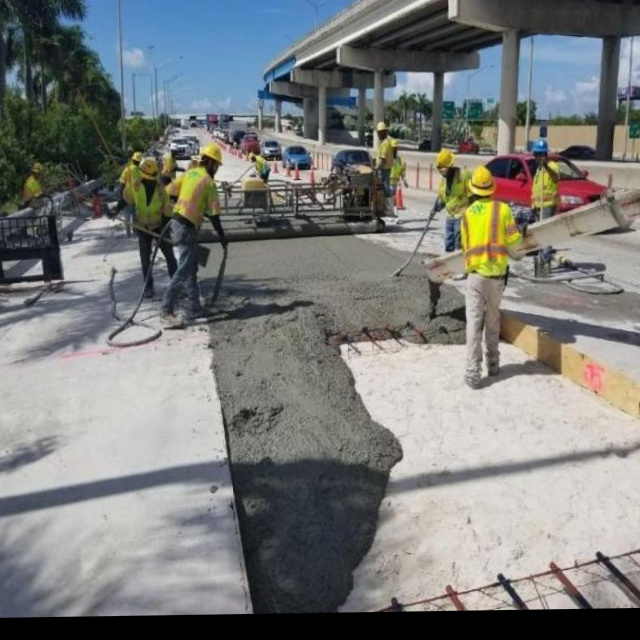Con_Casco: (468, 165, 496, 201), (201, 144, 224, 174), (530, 136, 549, 163)
Con_Chaleco: (465, 201, 513, 278), (175, 172, 214, 222), (130, 180, 165, 229)
